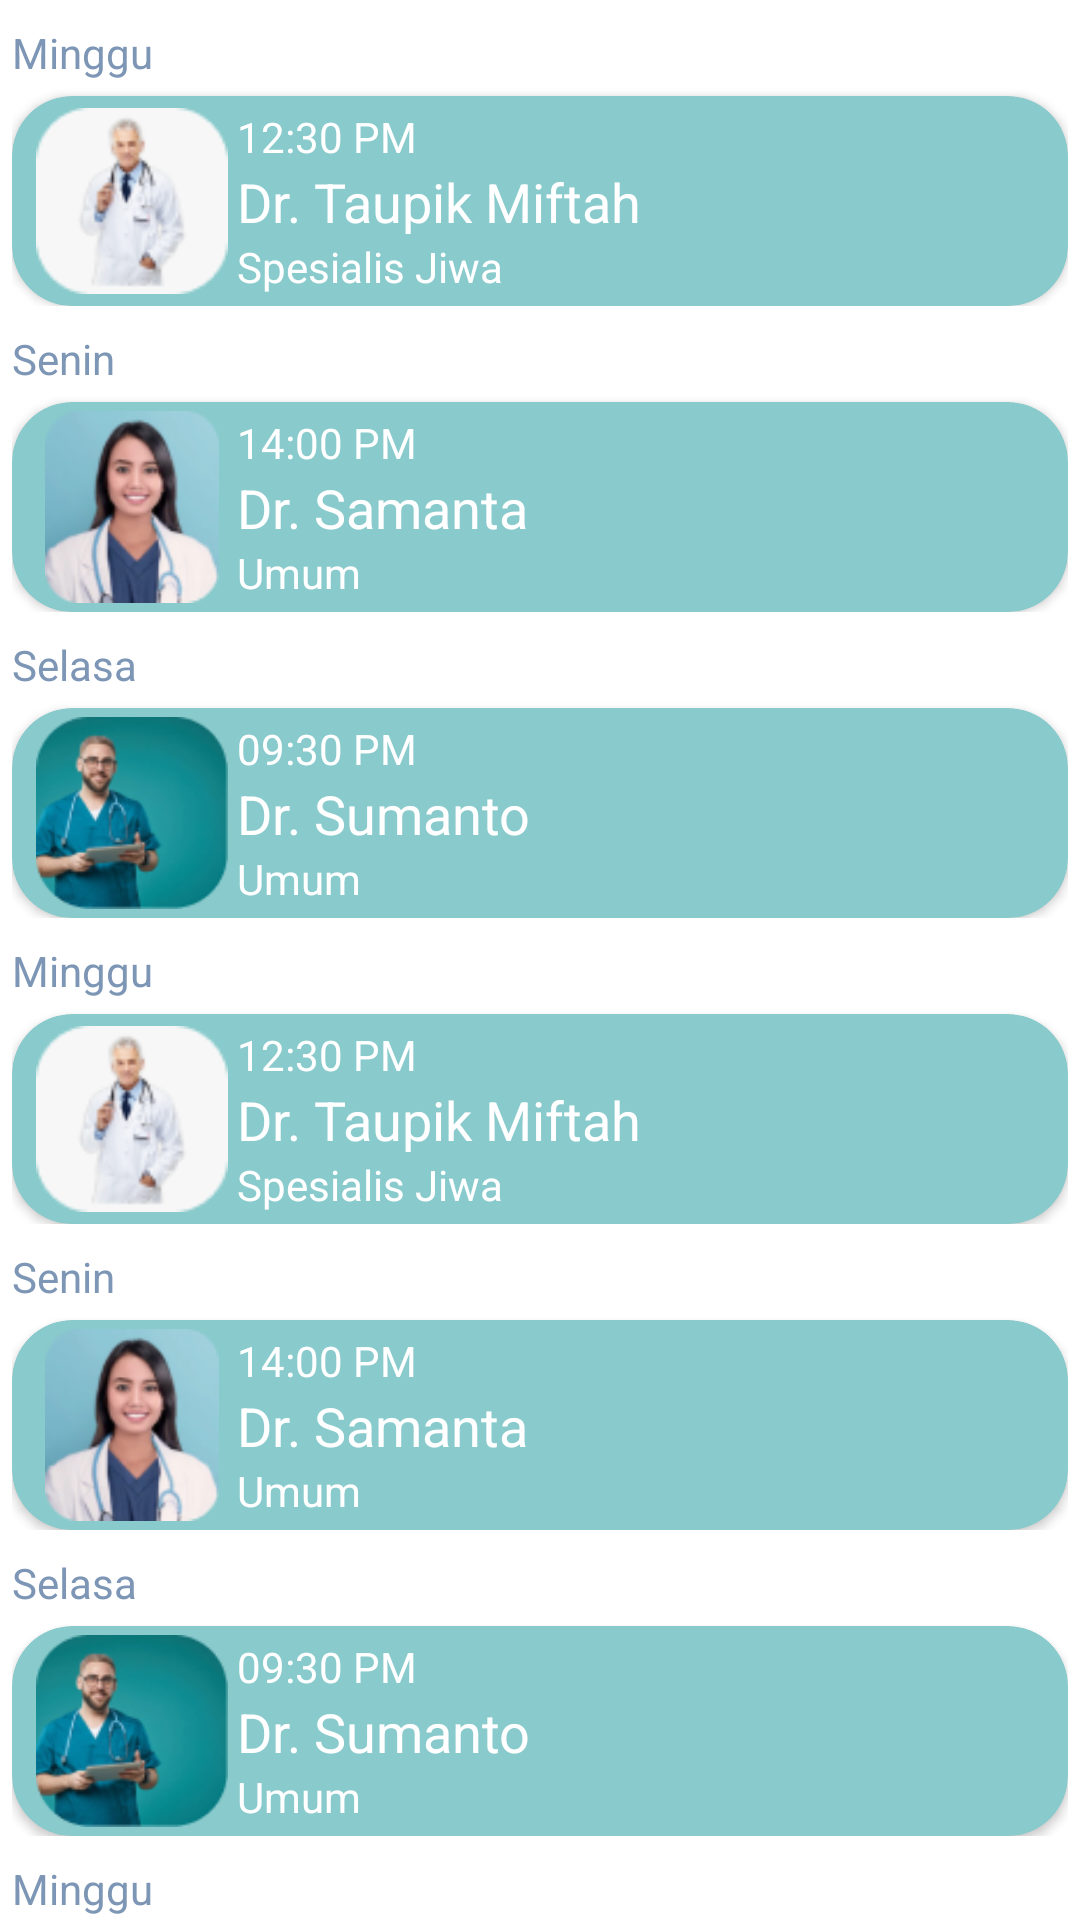

Named icons in this screenshot (1080px×1920px) and their centers, (x,y):
dokter fem: (132,507), (132,1425)
profil dokter: (132,201), (132,1119)
